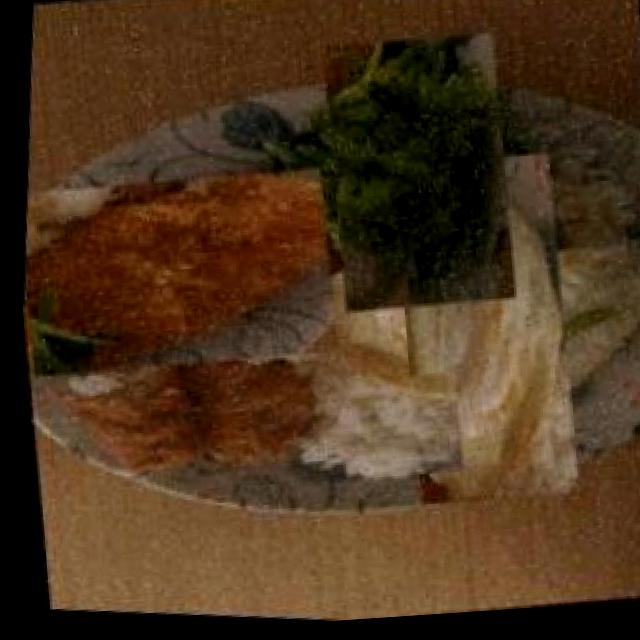fried_chicken: (9, 138, 354, 408)
fried_eggs: (317, 176, 640, 497)
rice: (289, 362, 465, 501)
water_spinach: (274, 37, 557, 319)
